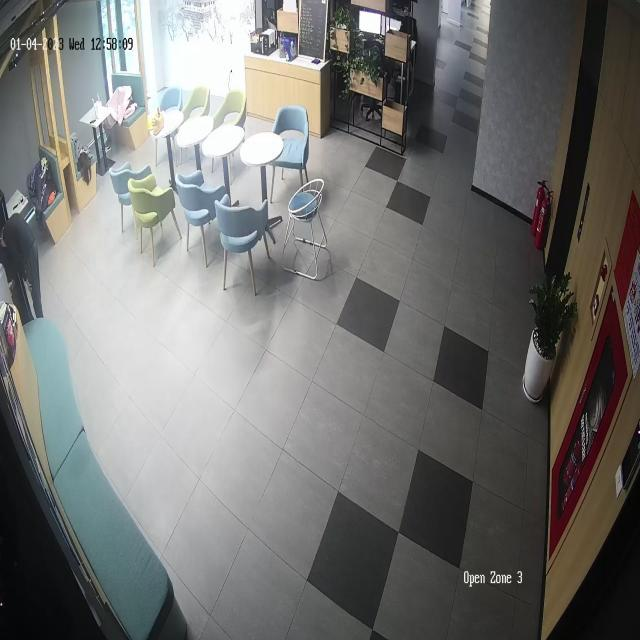person: (0, 194, 45, 320)
